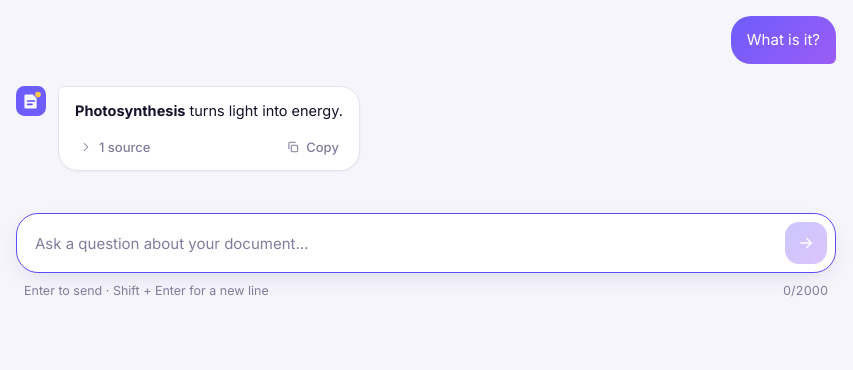
Test: ChatView › renders markdown answers and toggles sources
The image size is (853, 370).
Click the button "1 source" at {"x": 115, "y": 147}, box [69,132,160,162]
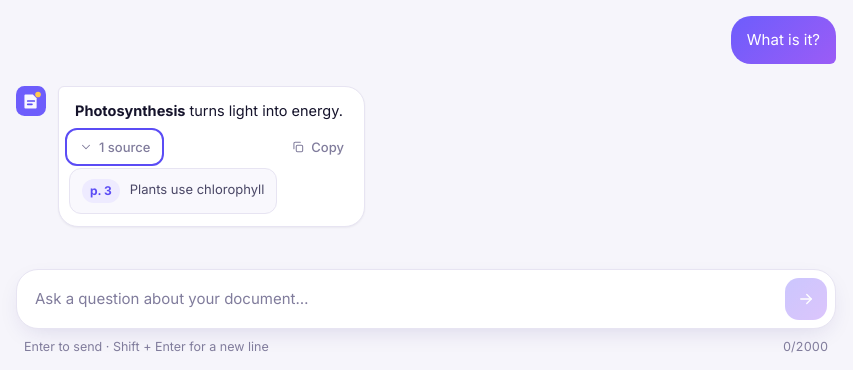
Expected: the text "p. 3" is shown, [82,179,120,203]
Expected: the text "Plants use chlorophyll" is shown, [130,179,264,203]
